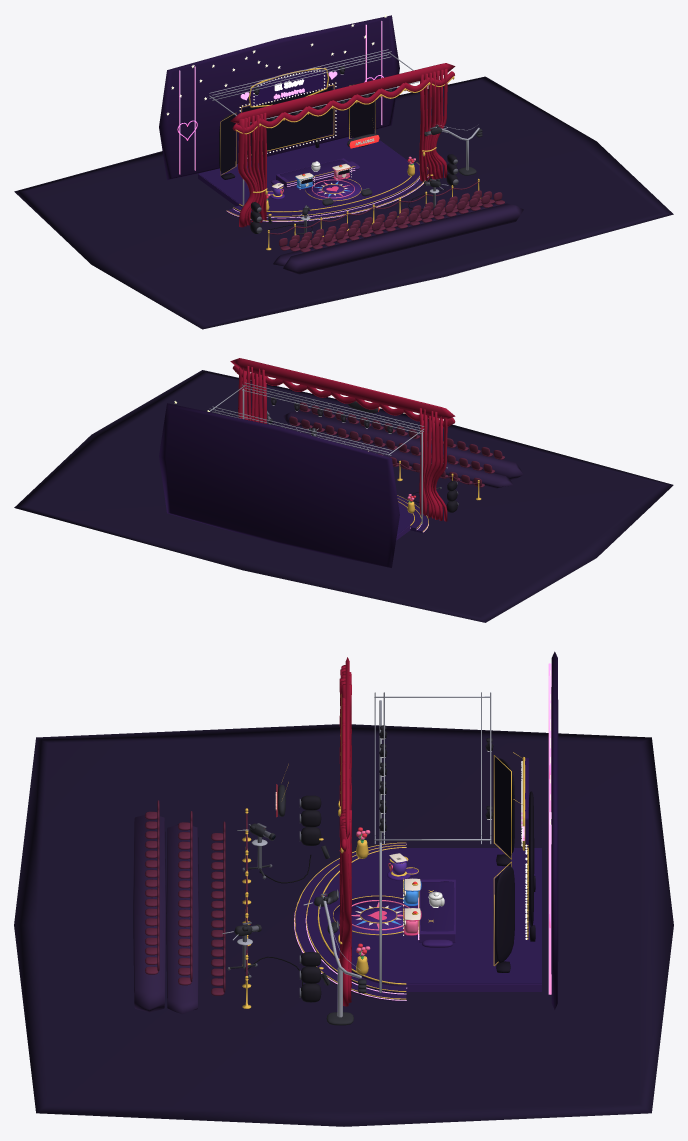
File: show_estudio.glb
3 renders of one model, top to bottom at view 1: azimuth 30°, elevation 25°; view 2: azimuth 150°, elevation 25°; view 3: azimuth 270°, elevation 25°, orthographic. The views are drawn at different scales.
Parts seen in each view (by area): view 1: set piso estudio, set pared fondo, set telon, set escenario, set grada publico, set silla, set oro, pantalla_grande, set cercha, set letrero fondo, set led, set escenario lado (+6 smaller); view 2: set piso estudio, set pared fondo, set telon, set grada publico, set silla, set cercha, set escenario; view 3: set piso estudio, set escenario, set grada publico, set silla, set telon, set oro, set marco, set cercha, set pared fondo, set escenario lado, set bafle, set camara (+4 smaller).
Boxes of the visible parts, x1,y1,x2,y2 form: set piso estudio: (14,76,673,329); set pared fondo: (159,15,399,180); set telon: (230,63,455,227); set escenario: (198,137,428,222); set grada publico: (273,203,523,274); set silla: (269,182,504,252); set oro: (220,66,480,250); pantalla_grande: (243,87,332,153); set cercha: (209,49,479,220); set letrero fondo: (249,67,326,106); set led: (179,21,428,221); set escenario lado: (198,158,412,213); set piso estudio: (14,370,673,622); set pared fondo: (159,403,399,567); set telon: (230,358,455,521); set grada publico: (277,410,523,488); set silla: (289,402,504,487); set cercha: (209,382,447,524); set escenario: (397,495,428,534); set piso estudio: (14,724,673,1126); set escenario: (295,843,541,1001); set grada publico: (133,815,199,1014); set silla: (145,800,247,995); set telon: (339,657,351,1006); set oro: (242,694,528,1008); set marco: (403,758,535,972); set cercha: (222,692,491,1017); set pared fondo: (551,651,558,1009); set escenario lado: (322,879,541,991); set bafle: (301,795,321,1002); set camara: (229,784,366,1025).
Size of the model in its own units: 26 by 5.8 by 18.
